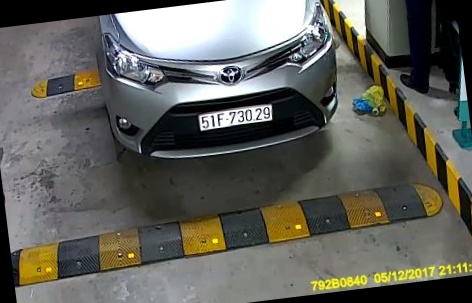plate: (188, 96, 277, 132)
